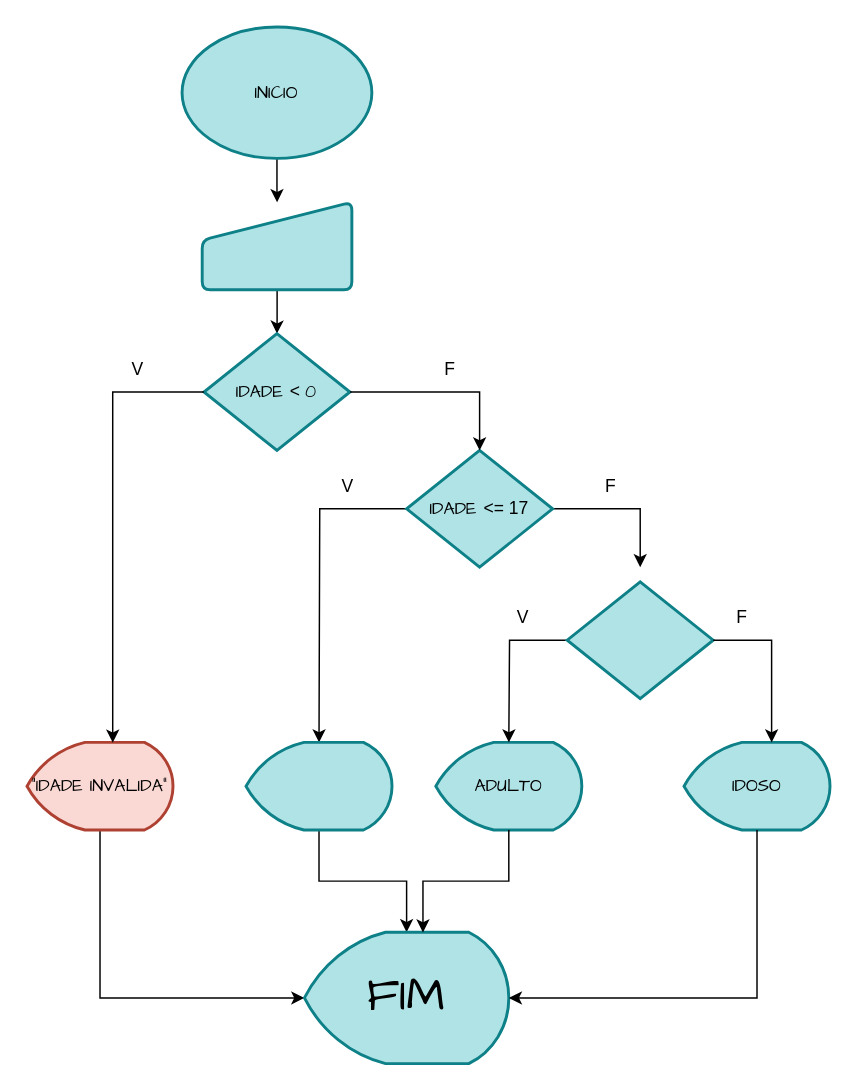
This 856x1089 diagram has some shape labels left out. The shapes that lost their labels are listed below. From the top down, each one's centre as x and y in pixels, then its label:
At (x=276, y=245): "IDADE".
At (x=639, y=639): "IDADE <= 64".
At (x=318, y=785): "MENOR".
